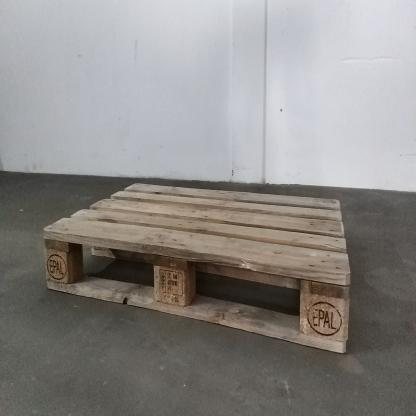BoxFace: (40, 180, 354, 358)
